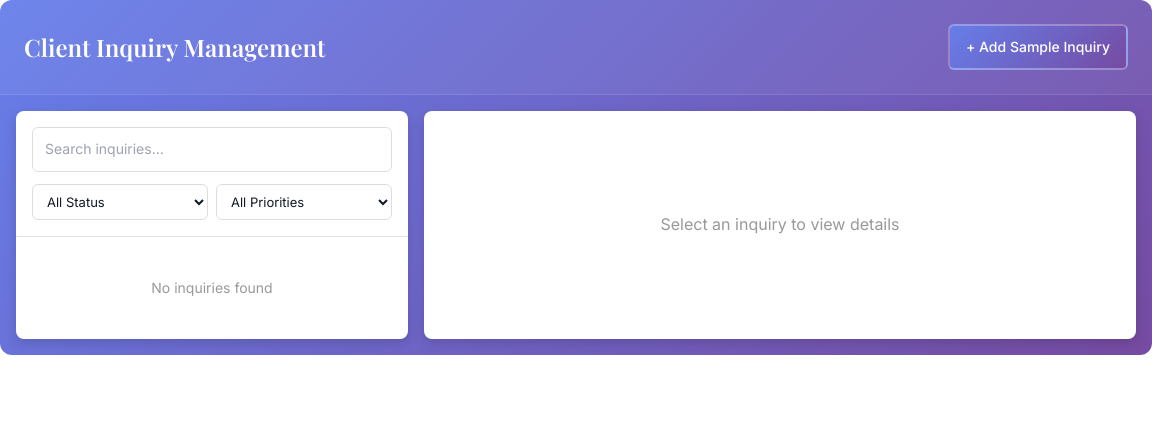
it: InquiryManagement Component › Adding Inquiries › should add inquiry when add button is clicked
Click the button with test id "btn-add-inquiry" at (1038, 47), box [948,24,1128,70]
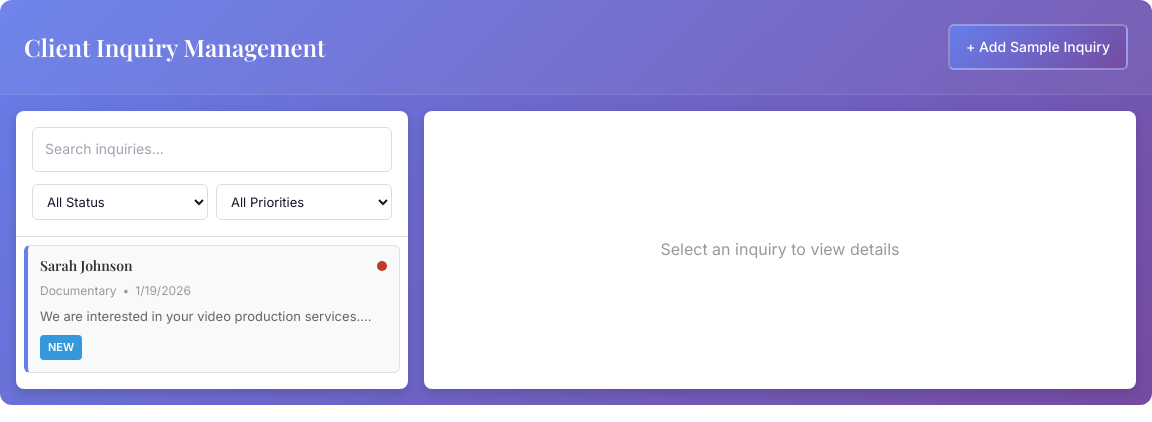
Expected: the text "No inquiries found" is gone
